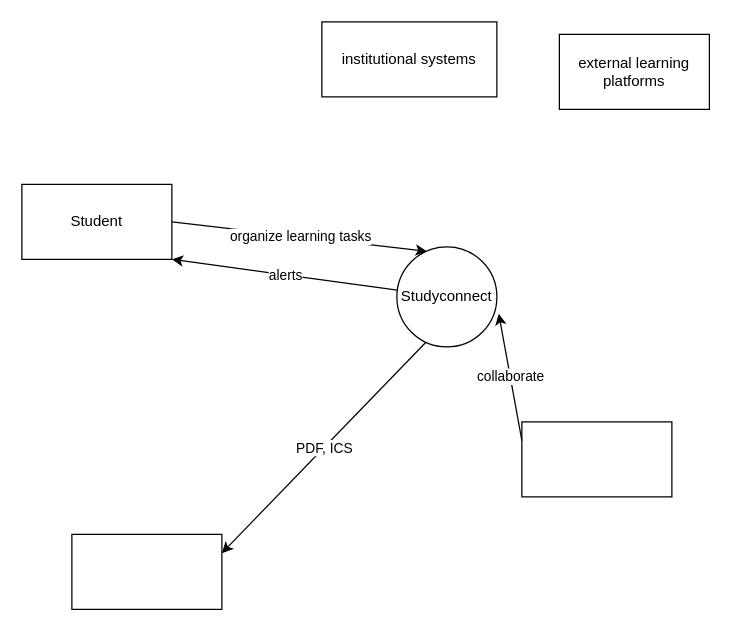
This 731x631 diagram has some shape labels left out. Here are the shapes that lost their labels. From the top down, the centre of each, then its label:
At [596,459]: "study group".
At [146,571]: "data export".
